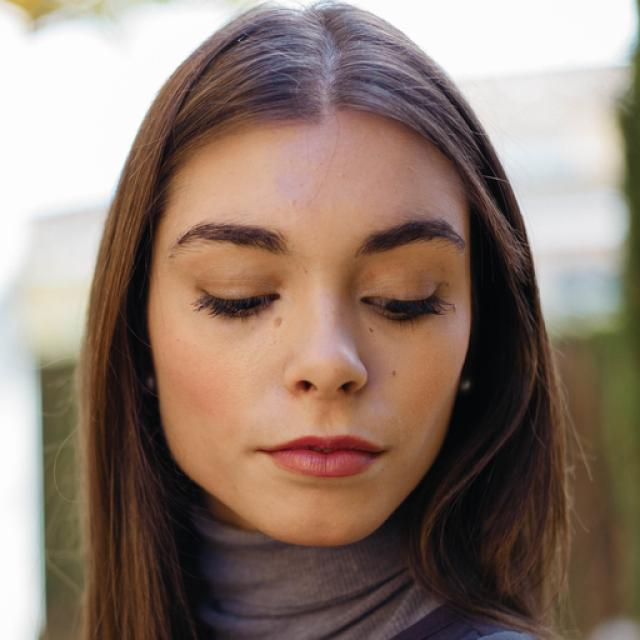neutral: (151, 109, 474, 545)
